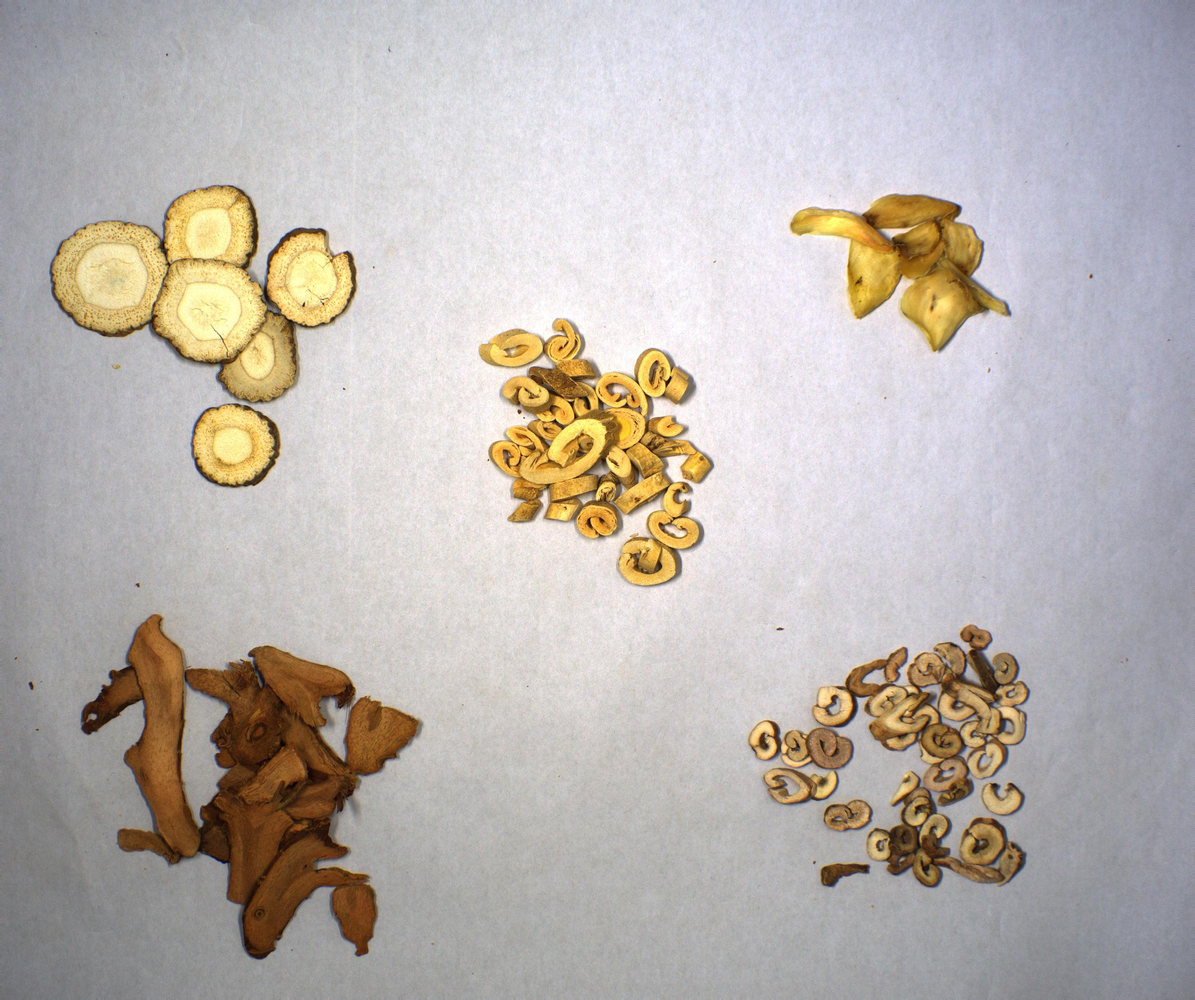baihe: (787, 188, 1018, 354)
baixianpi: (476, 316, 713, 591)
baizhi: (49, 183, 356, 489)
gaoliangjiang: (74, 611, 425, 959)
mudanpi: (747, 621, 1031, 892)
